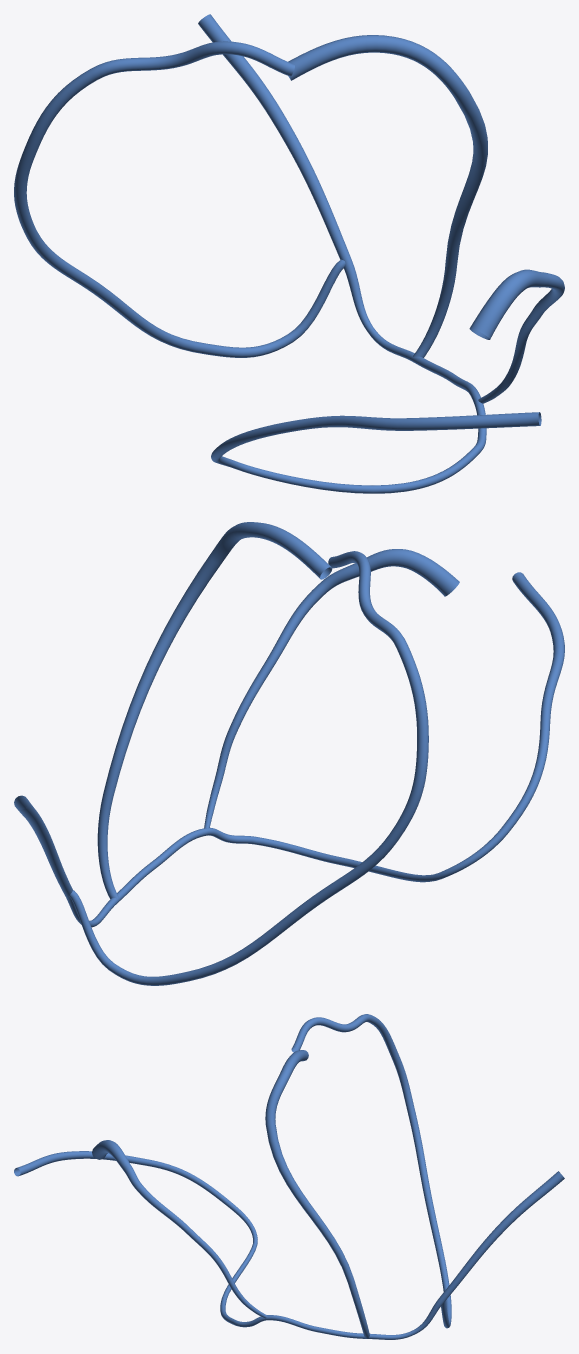
3 views of the same model, one above another, from view 1: azimuth 30°, elevation 25°; view 2: azimuth 150°, elevation 25°; view 3: azimuth 270°, elevation 25° (orthographic). The views are drawn at different scales.
Parts seen in each view (by area): view 1: 左侧膝静脉; view 2: 左侧膝静脉; view 3: 左侧膝静脉.
Part boxes in pixels (left/top/right/bottom): 左侧膝静脉: left=14, top=14, right=564, bottom=493; 左侧膝静脉: left=14, top=522, right=564, bottom=985; 左侧膝静脉: left=14, top=1014, right=564, bottom=1339.
Bounding box in the file's own units: 0.1247 × 0.1275 × 0.2426.
